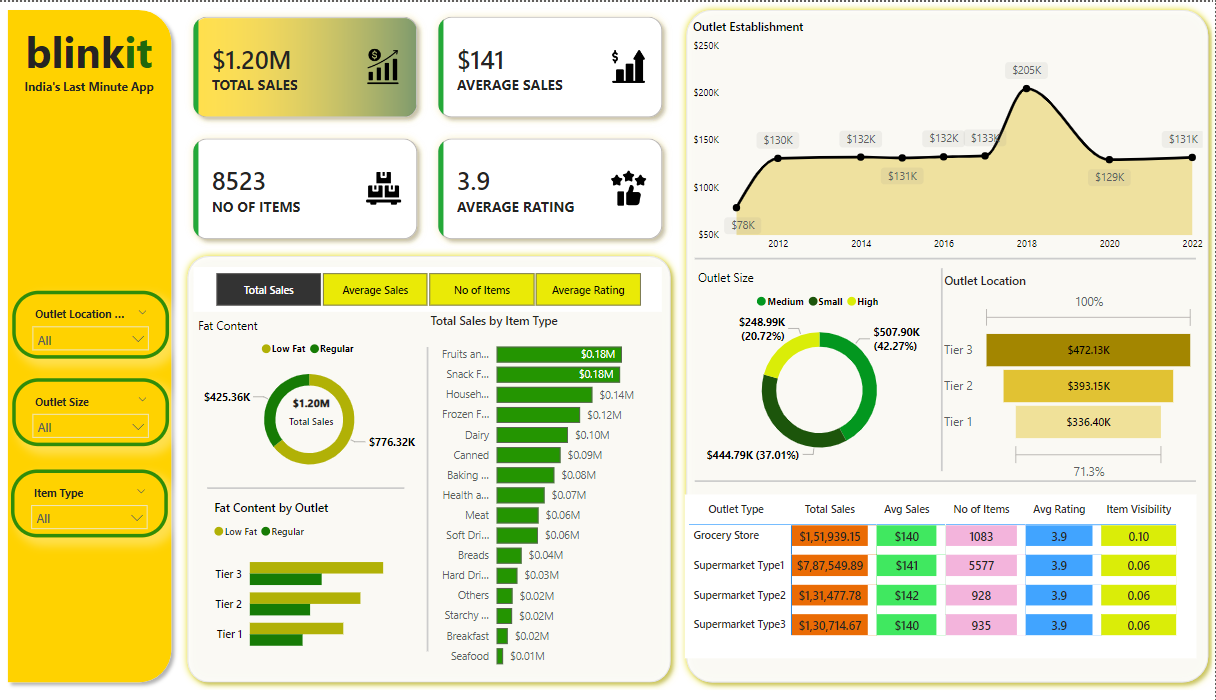

The page's visual inventory and layout, read from the dashboard file:
{"tool":"powerbi","page":{"name":"Page 1","canvas":[1400,800],"ordinal":0},"visuals":[{"type":"shape","box":[9.5,0,205.2,786.7],"z":0},{"type":"textbox","box":[19.9,18.2,183.8,92.7],"z":1000},{"type":"cardVisual","fields":{"Data":["BlinkIT Grocery Data.Total Sales","BlinkIT Grocery Data.Average Sales","BlinkIT Grocery Data.No of Items","BlinkIT Grocery Data.Average Rating"]},"box":[214.7,0,570.7,288],"z":2000},{"type":"shape","box":[215.3,281.5,570,505],"z":3000},{"type":"slicer","fields":{"Values":["Metrics.Metrics"]},"box":[231.9,303.1,534.9,51.3],"z":4000},{"type":"card","fields":{"Values":["BlinkIT Grocery Data.Total Sales"]},"box":[321.3,440.5,89.4,54.7],"z":5000},{"type":"clusteredBarChart","title":"Fat Content by Outlet","fields":{"Y":["BlinkIT Grocery Data.Total Sales"],"Series":["BlinkIT Grocery Data.Item Fat Content"],"Category":["BlinkIT Grocery Data.Outlet Location Type"]},"box":[250.1,568.1,250.1,187.1],"z":6000},{"type":"shape","box":[246.8,551.5,225.2,8.3],"z":7000},{"type":"shape","box":[460.4,394.2,77.8,347.8],"z":8000},{"type":"barChart","fields":{"Y":["BlinkIT Grocery Data.Total Sales"],"Category":["BlinkIT Grocery Data.Item Type"]},"box":[497.3,354.6,270.4,417.1],"z":9000},{"type":"shape","box":[785,0,614.4,786.7],"z":10000},{"type":"lineChart","title":"Outlet Establishment","fields":{"Y":["BlinkIT Grocery Data.Total Sales"],"Category":["BlinkIT Grocery Data.Outlet Establishment Year"]},"box":[796.6,18.2,592.9,275],"z":11000},{"type":"shape","box":[804.9,265,573,58],"z":12000},{"type":"donutChart","title":"Fat Content","fields":{"Y":["BlinkIT Grocery Data.Total Sales"],"Category":["BlinkIT Grocery Data.Item Fat Content"]},"box":[231.9,359.4,265,188.8],"z":13000},{"type":"donutChart","title":"Outlet Size","fields":{"Y":["BlinkIT Grocery Data.Total Sales"],"Category":["BlinkIT Grocery Data.Outlet Size"]},"box":[803.2,306.4,288.2,230.2],"z":14000},{"type":"shape","box":[1064.9,304.7,44.7,231.9],"z":15000},{"type":"funnel","title":"Outlet Location","fields":{"Y":["BlinkIT Grocery Data.Total Sales"],"Category":["BlinkIT Grocery Data.Outlet Location Type"]},"box":[1084.8,308,296.5,243.5],"z":16000},{"type":"shape","box":[804.9,518.4,573,58],"z":17000},{"type":"pivotTable","fields":{"Rows":["BlinkIT Grocery Data.Outlet Type"],"Values":["BlinkIT Grocery Data.Total Sales","BlinkIT Grocery Data.Average Sales","BlinkIT Grocery Data.No of Items","BlinkIT Grocery Data.Average Rating","Avg(BlinkIT Grocery Data.Item Visibility)"]},"box":[793.3,563.1,584.6,187.1],"z":18000},{"type":"slicer","fields":{"Values":["BlinkIT Grocery Data.Outlet Location Type"]},"box":[24.8,329.6,178.9,77.8],"z":19000},{"type":"slicer","fields":{"Values":["BlinkIT Grocery Data.Outlet Size"]},"box":[24.8,430.6,178.9,77.8],"z":20000},{"type":"slicer","fields":{"Values":["BlinkIT Grocery Data.Item Type"]},"box":[23.2,534.9,178.9,77.8],"z":21000}]}

Visuals, with their boxes in screenshot pixels (x1, y1, x2, y2), scaled from the page's 1400x800 canvas onto the 1216x700 screenshot:
shape: 8:0:186:688
textbox: 17:16:177:97
cardVisual - BlinkIT Grocery Data.Total Sales x BlinkIT Grocery Data.Average Sales: 186:0:682:252
shape: 187:246:682:688
slicer - Metrics.Metrics: 201:265:666:310
card - BlinkIT Grocery Data.Total Sales: 279:385:357:433
"Fat Content by Outlet" clusteredBarChart: 217:497:434:661
shape: 214:483:410:490
shape: 400:345:467:649
barChart - BlinkIT Grocery Data.Total Sales x BlinkIT Grocery Data.Item Type: 432:310:667:675
shape: 682:0:1215:688
"Outlet Establishment" lineChart: 692:16:1207:257
shape: 699:232:1197:283
"Fat Content" donutChart: 201:314:432:480
"Outlet Size" donutChart: 698:268:948:470
shape: 925:267:964:470
"Outlet Location" funnel: 942:270:1200:483
shape: 699:454:1197:504
pivotTable - BlinkIT Grocery Data.Outlet Type x BlinkIT Grocery Data.Total Sales: 689:493:1197:656
slicer - BlinkIT Grocery Data.Outlet Location Type: 22:288:177:356
slicer - BlinkIT Grocery Data.Outlet Size: 22:377:177:445
slicer - BlinkIT Grocery Data.Item Type: 20:468:176:536
